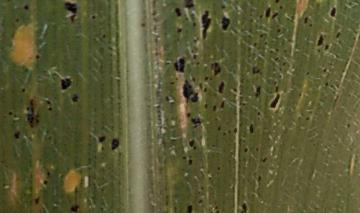tarspot: (24, 97, 40, 130), (62, 1, 81, 24), (199, 9, 213, 40), (181, 77, 194, 105), (69, 185, 80, 213), (267, 92, 284, 110), (173, 56, 186, 76), (58, 75, 72, 93), (219, 15, 231, 32), (109, 136, 120, 153), (210, 61, 221, 78), (327, 5, 338, 21), (191, 115, 202, 131), (238, 201, 250, 213), (183, 1, 197, 11), (216, 79, 225, 94), (246, 122, 256, 135), (315, 33, 325, 46), (96, 133, 107, 144), (69, 93, 80, 104), (218, 97, 227, 110), (184, 202, 194, 213), (172, 6, 182, 17), (33, 195, 42, 207), (191, 92, 200, 104), (332, 92, 341, 104), (254, 84, 261, 99), (263, 6, 271, 19), (21, 2, 30, 11), (13, 130, 21, 140), (251, 66, 259, 76), (186, 138, 196, 146), (197, 81, 204, 92), (334, 30, 342, 39), (270, 11, 279, 19), (19, 87, 28, 95), (41, 178, 49, 187), (201, 101, 210, 109), (232, 126, 240, 135), (272, 54, 280, 63), (302, 14, 309, 24), (210, 104, 217, 114), (304, 114, 311, 124), (320, 66, 328, 74), (202, 74, 210, 82), (258, 32, 266, 40), (323, 42, 330, 51), (32, 53, 41, 60), (258, 12, 265, 21), (199, 183, 206, 192), (231, 85, 238, 94), (45, 169, 51, 179), (187, 157, 193, 167), (261, 156, 268, 164), (90, 13, 97, 21), (45, 99, 52, 107), (175, 28, 183, 35), (273, 85, 280, 93), (207, 174, 214, 182), (240, 100, 247, 108), (190, 20, 197, 27), (100, 33, 107, 40), (191, 53, 198, 60), (169, 79, 176, 86), (272, 79, 279, 86), (256, 174, 262, 182), (345, 122, 351, 130), (314, 47, 322, 53), (274, 27, 282, 33), (13, 17, 21, 23), (11, 113, 19, 119), (216, 125, 222, 133), (219, 4, 227, 10), (140, 21, 146, 29), (150, 10, 158, 16), (212, 115, 220, 121), (45, 106, 54, 111), (323, 80, 329, 87), (6, 110, 13, 116), (242, 147, 249, 153), (185, 111, 191, 118), (252, 40, 258, 47), (280, 60, 286, 67), (254, 146, 260, 153), (209, 142, 216, 148), (46, 135, 53, 141), (44, 128, 51, 134), (282, 47, 288, 54), (203, 86, 208, 94), (164, 94, 169, 102), (278, 72, 283, 80), (297, 89, 302, 97), (263, 39, 268, 47), (304, 70, 310, 76), (307, 22, 313, 28), (197, 198, 203, 204), (274, 47, 280, 53), (268, 48, 274, 54), (23, 67, 29, 73), (213, 204, 219, 209), (215, 165, 220, 171), (192, 145, 197, 151), (182, 155, 187, 161), (256, 111, 261, 117), (273, 1, 281, 4), (277, 5, 283, 9), (214, 209, 220, 213), (227, 128, 231, 133)
